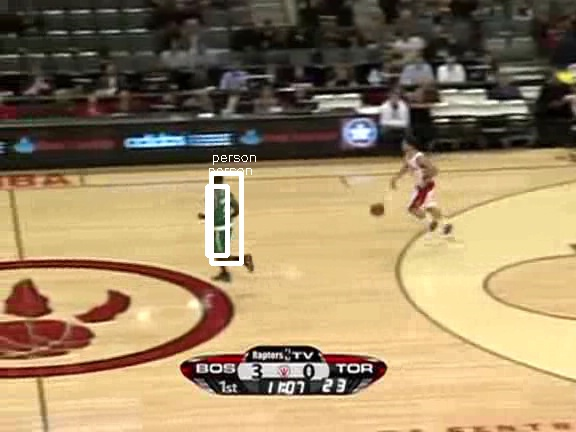person: (205, 181, 239, 262), (204, 181, 238, 262), (206, 181, 240, 262), (205, 180, 239, 261), (205, 182, 239, 263)
target_negative: (379, 212, 575, 277), (370, 172, 519, 236), (471, 226, 569, 303), (123, 100, 195, 180), (377, 384, 494, 397), (459, 359, 483, 376)
